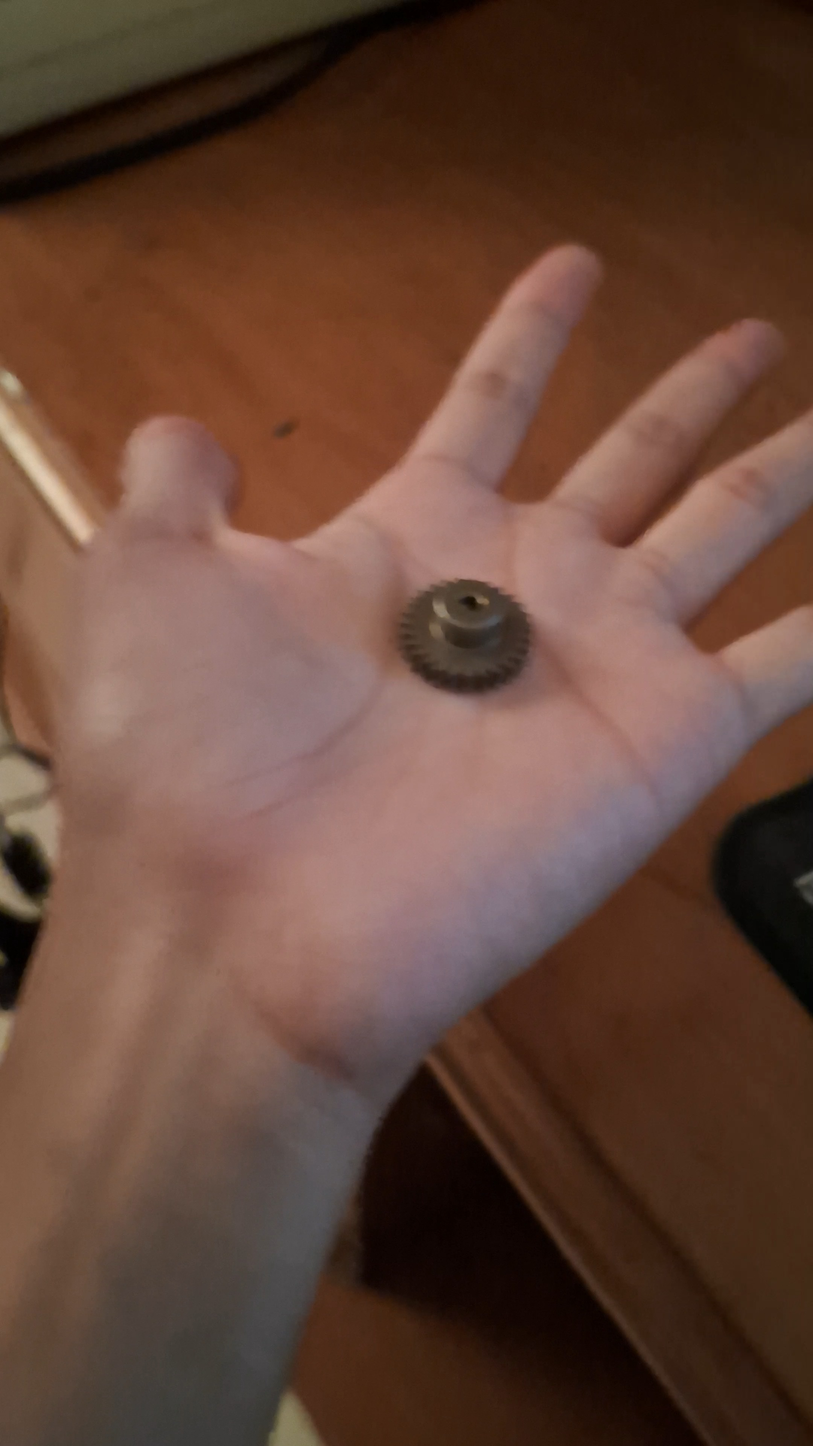spur gear: (398, 580, 531, 693)
